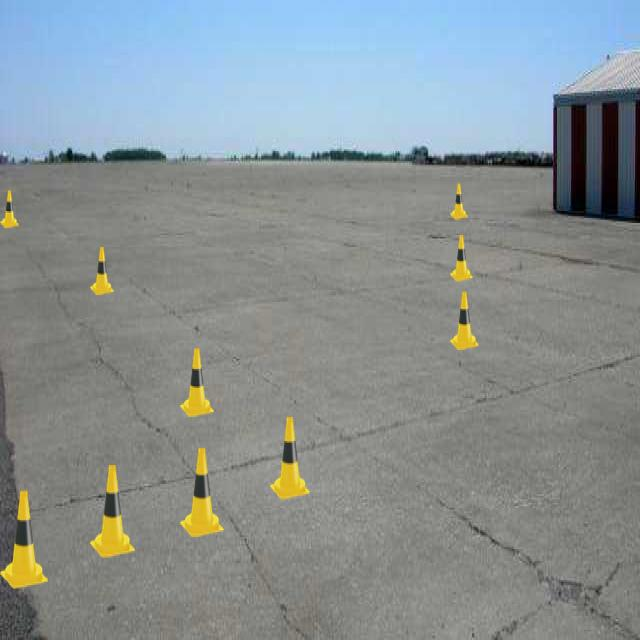yellow_cone: (0, 491, 48, 588), (90, 465, 135, 558), (180, 448, 224, 537), (270, 417, 310, 499), (180, 348, 214, 417), (450, 292, 479, 350), (90, 247, 114, 295), (450, 235, 473, 281), (0, 191, 19, 228), (450, 183, 468, 220)
